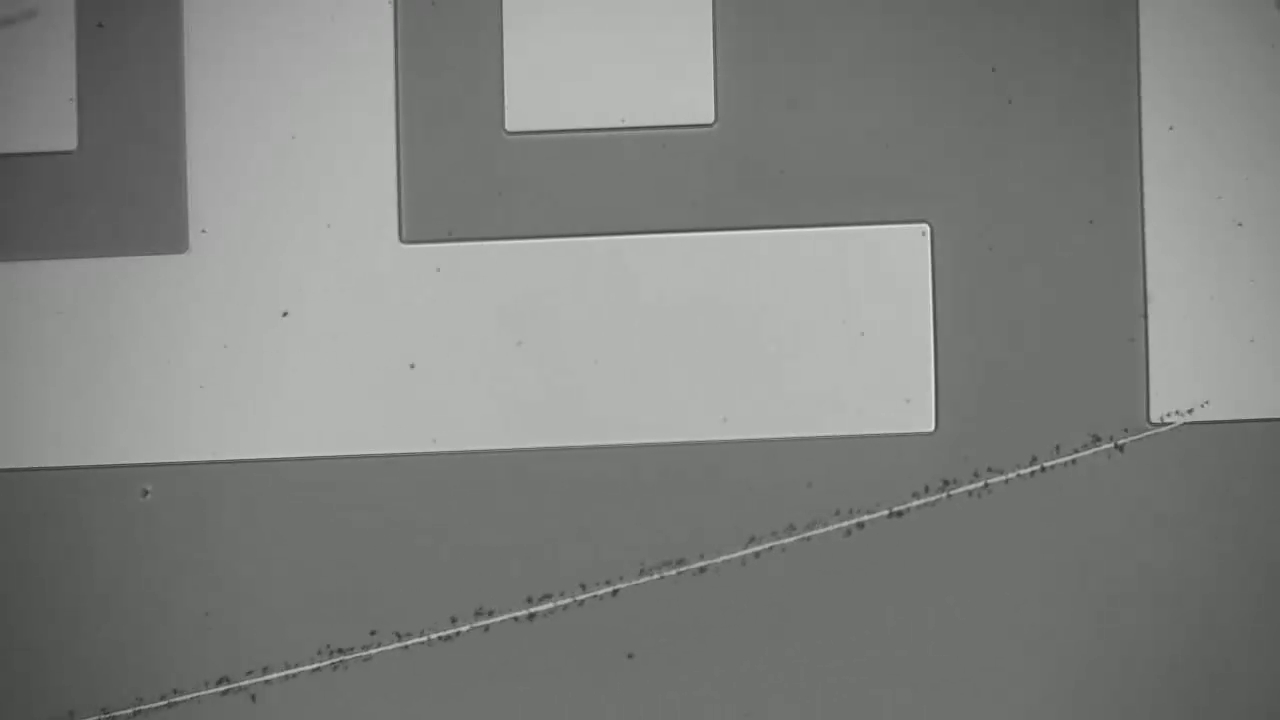scratch: (107, 426, 1178, 717)
